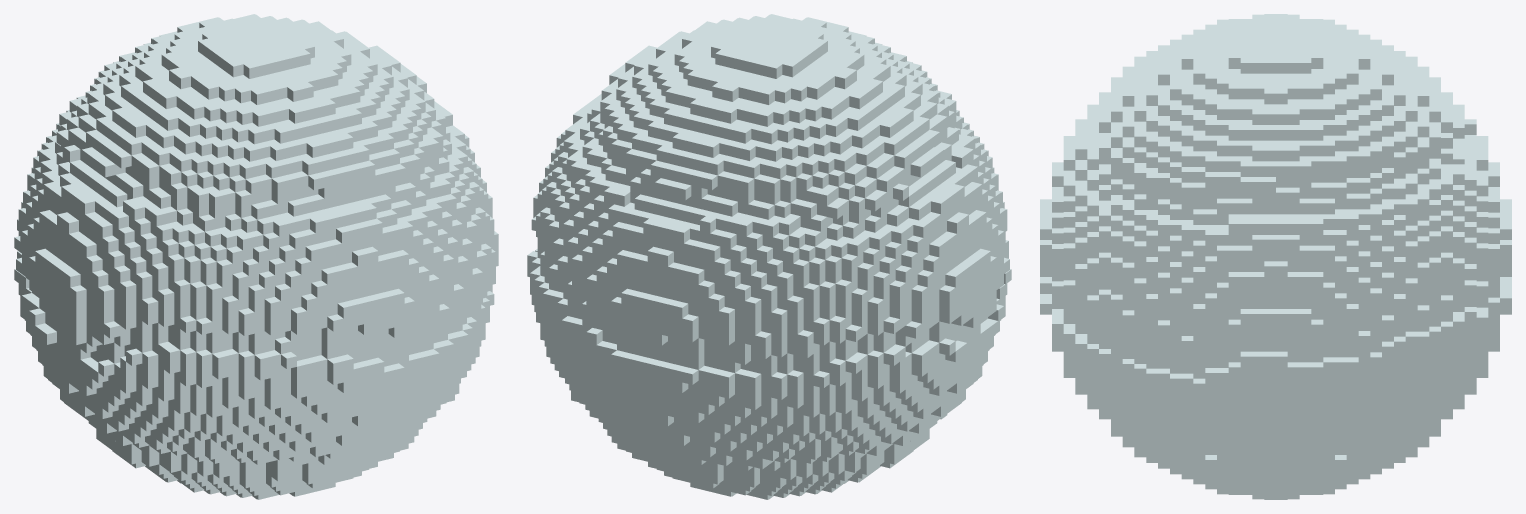
File: Ana_Branca#e4f5f7.dae
The picture shows the model from 3 angles, left to right: view 1: azimuth 30°, elevation 25°; view 2: azimuth 150°, elevation 25°; view 3: azimuth 270°, elevation 25°; orthographic projection.
Visible parts, largest first — view 1: Ana_Branca#e4f5f7-0bj.vox; view 2: Ana_Branca#e4f5f7-0bj.vox; view 3: Ana_Branca#e4f5f7-0bj.vox.
Part boxes in pixels (x1,y1,x2,y2): Ana_Branca#e4f5f7-0bj.vox: (14,14,498,499); Ana_Branca#e4f5f7-0bj.vox: (527,14,1011,499); Ana_Branca#e4f5f7-0bj.vox: (1040,14,1511,499).
Size of the model in its own units: 4 by 4 by 4.
